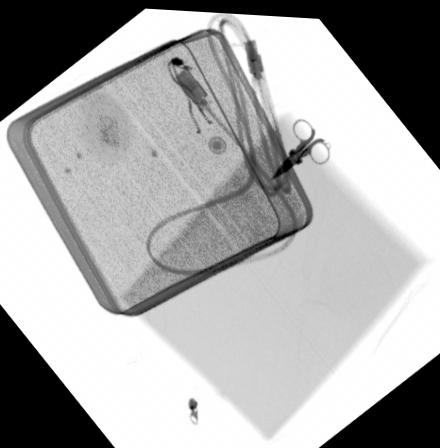Scissors: (269, 114, 330, 179)
